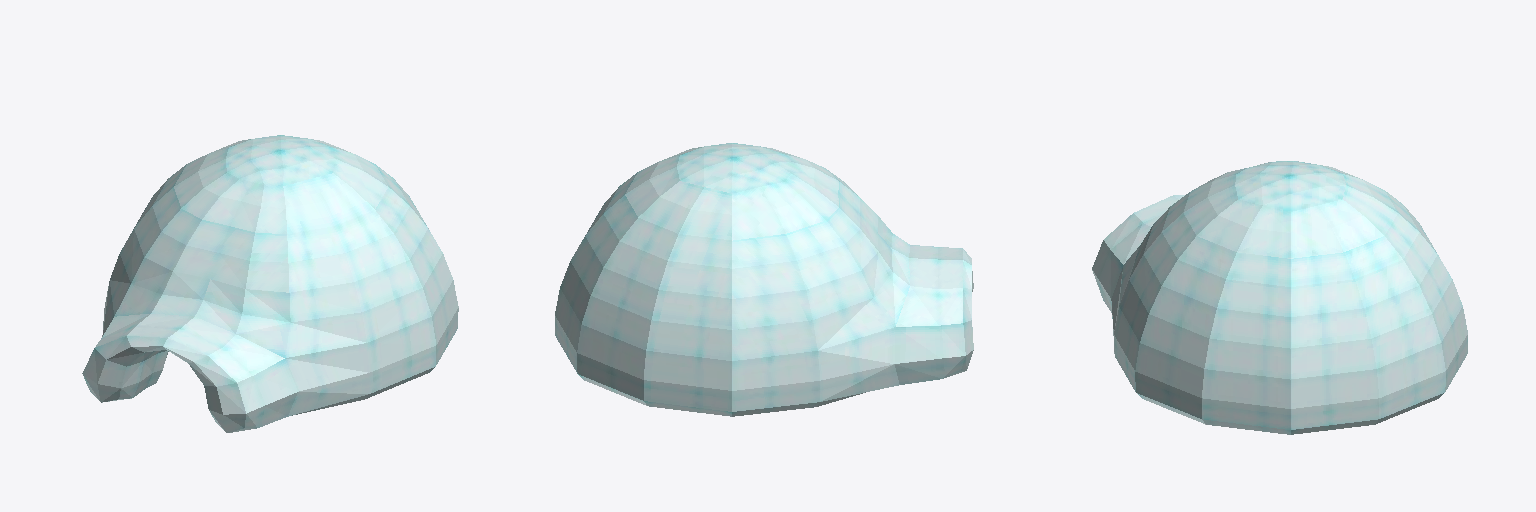
3 views of the same model, side by side, from view 1: azimuth 30°, elevation 25°; view 2: azimuth 150°, elevation 25°; view 3: azimuth 270°, elevation 25° (orthographic).
Visible parts, largest first — view 1: igloo; view 2: igloo; view 3: igloo.
Part boxes in pixels (x1,y1,x2,y2): igloo: (82,135,458,432); igloo: (555,143,973,416); igloo: (1092,161,1467,434).
Size of the model in its own units: 14.6 by 7.08 by 12.81.
1 materials, 1 textured.